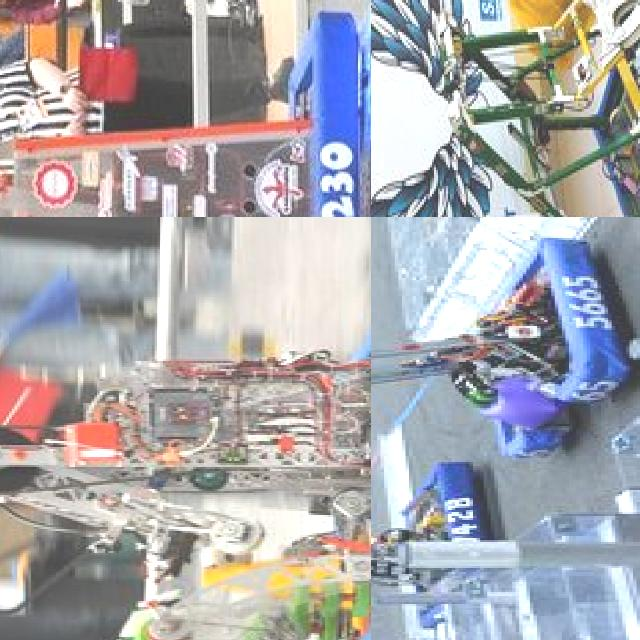FRC-Robots: (0, 243, 371, 640), (0, 0, 371, 217), (371, 0, 640, 217), (371, 225, 633, 438), (371, 457, 503, 607)
